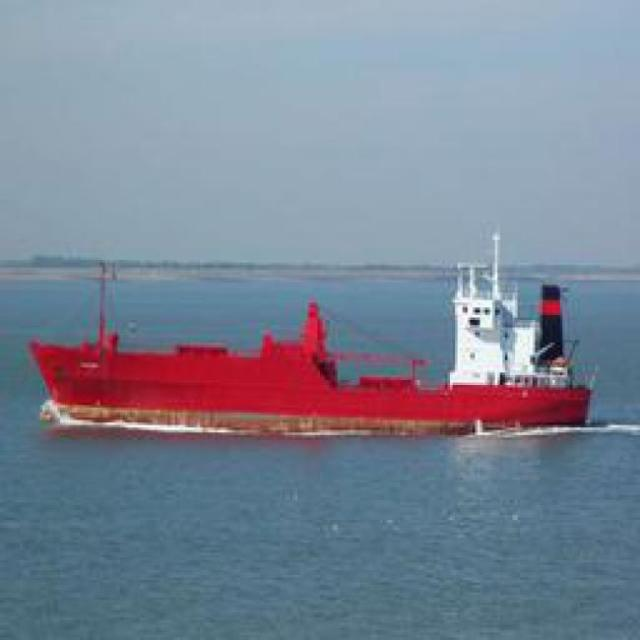boat: (16, 266, 604, 435)
